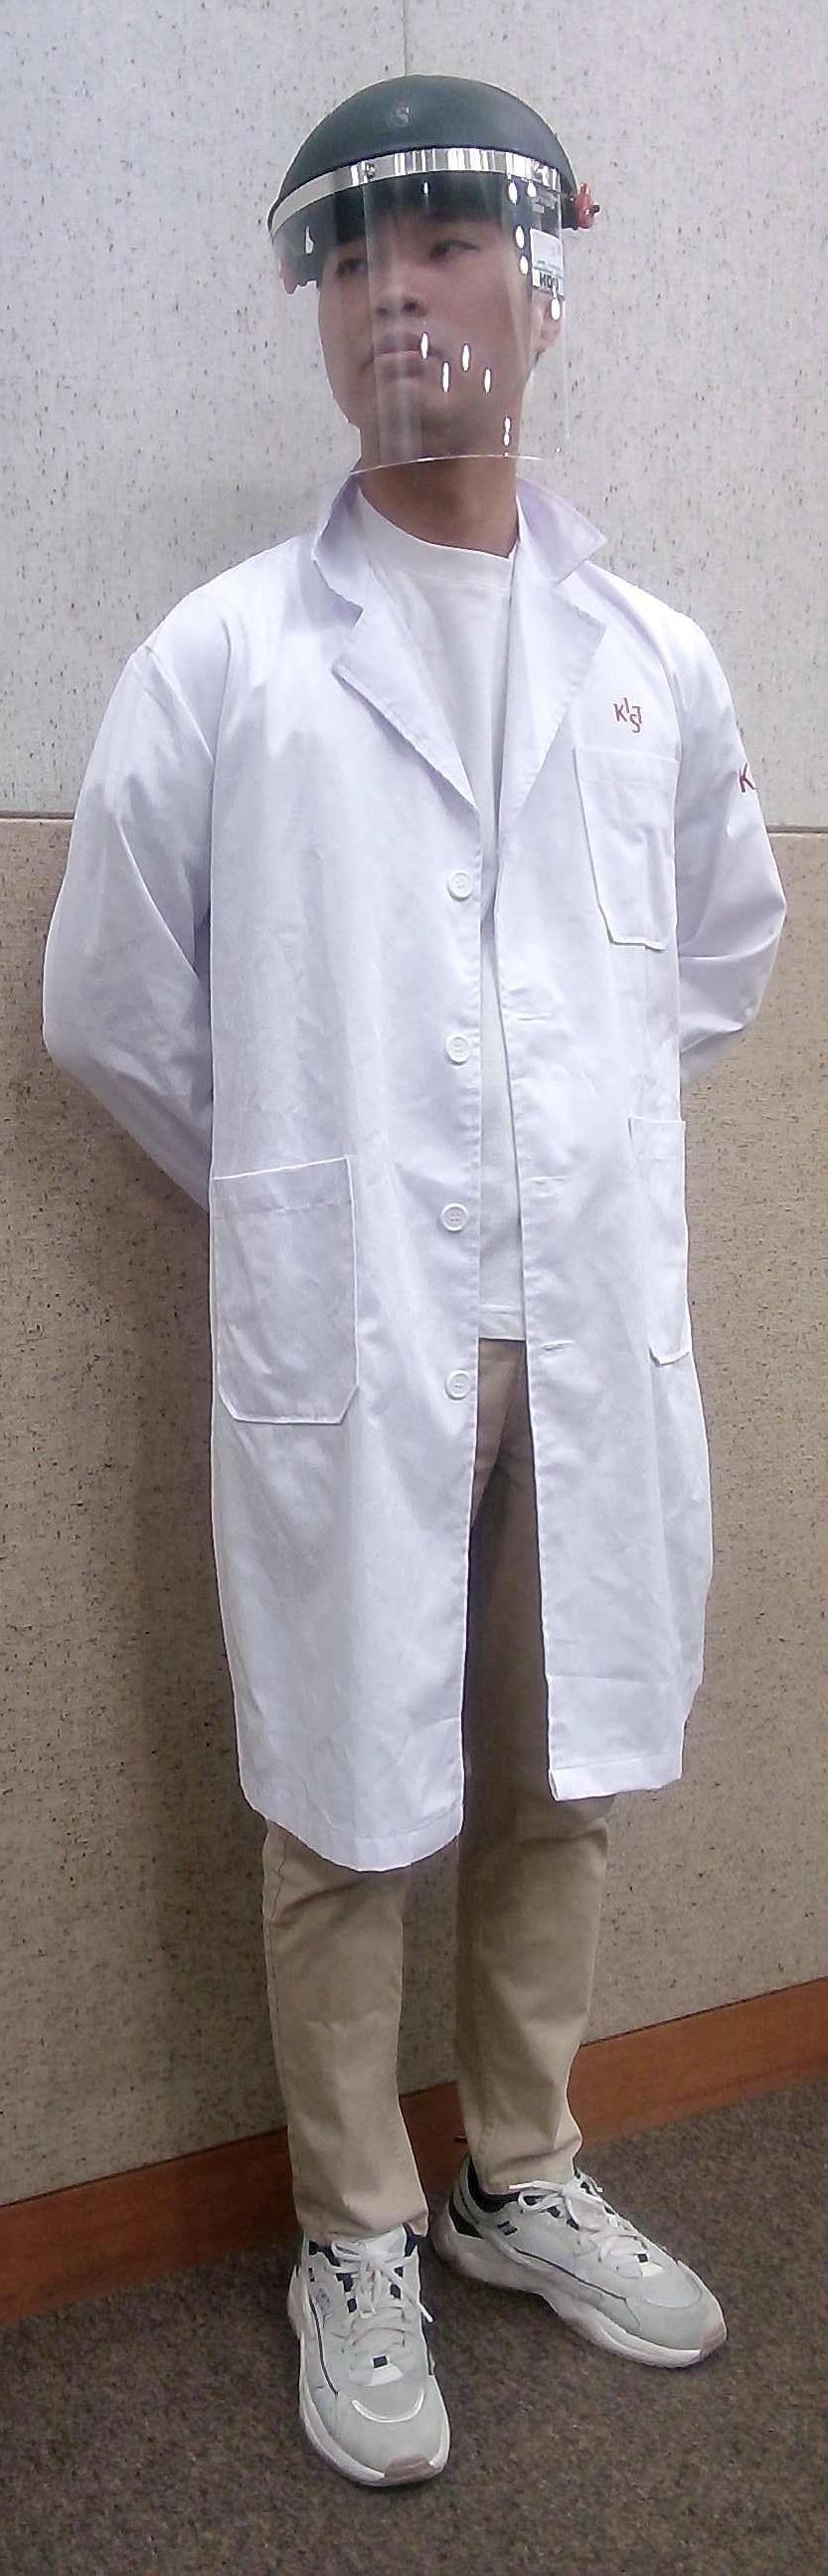lab_coat: (181, 527, 713, 1833)
